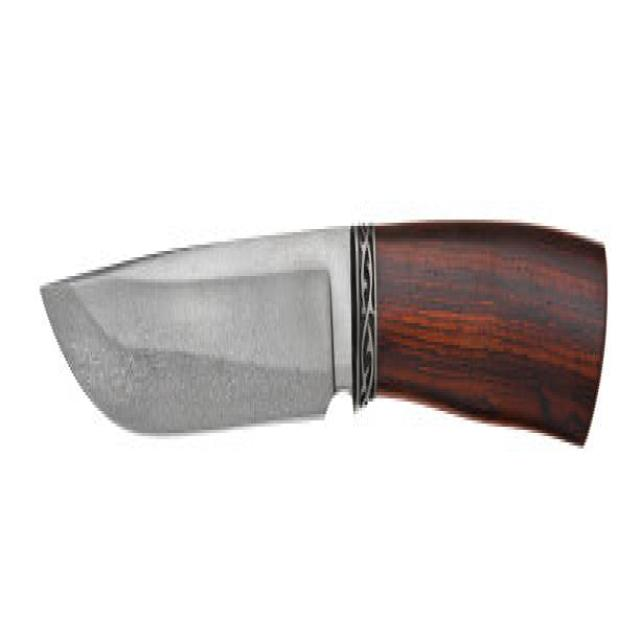knife: (37, 207, 613, 472)
